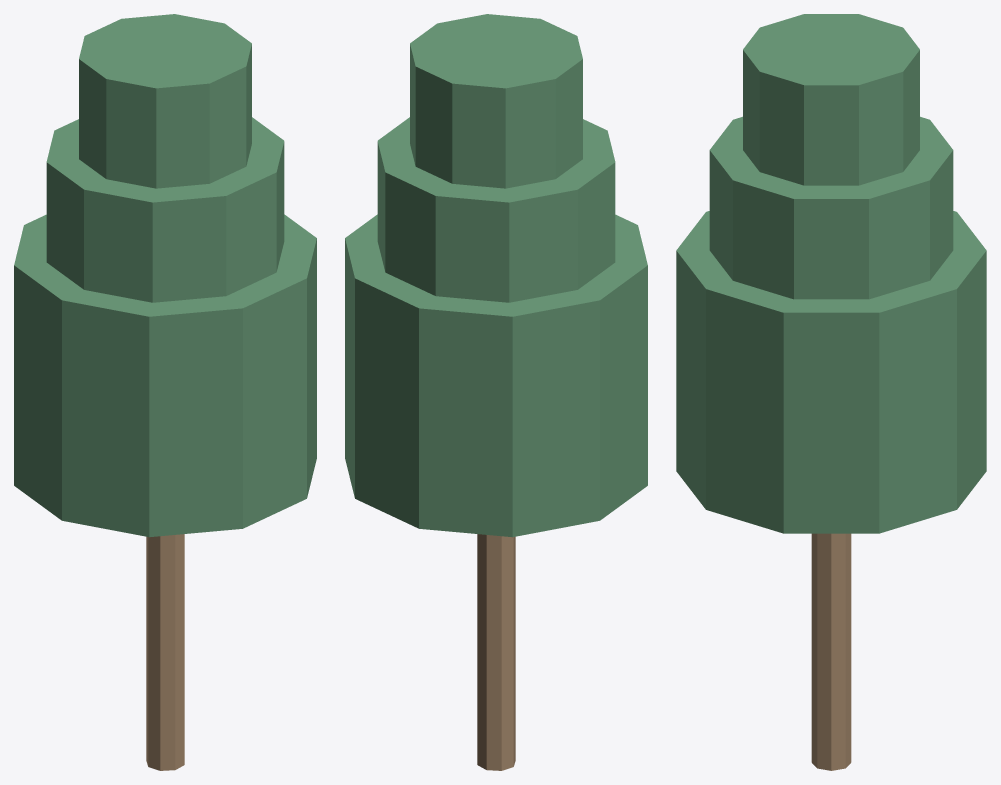
The model's file is coastal_pine.glb.
3 views of the same model, side by side, from view 1: azimuth 30°, elevation 25°; view 2: azimuth 150°, elevation 25°; view 3: azimuth 270°, elevation 25° (orthographic).
Parts seen in each view (by area): view 1: cone0, cone1, cone2, trunk; view 2: cone0, cone1, cone2, trunk; view 3: cone0, cone1, cone2, trunk.
Boxes of the visible parts, left/top/right/bottom form: cone0: left=14, top=214, right=316, bottom=537; cone1: left=46, top=117, right=284, bottom=302; cone2: left=79, top=14, right=251, bottom=188; trunk: left=146, top=534, right=184, bottom=770; cone0: left=345, top=214, right=647, bottom=537; cone1: left=377, top=117, right=615, bottom=302; cone2: left=410, top=14, right=582, bottom=188; trunk: left=477, top=534, right=515, bottom=770; cone0: left=676, top=211, right=986, bottom=533; cone1: left=709, top=116, right=953, bottom=299; cone2: left=743, top=14, right=919, bottom=185; trunk: left=811, top=533, right=851, bottom=770.
Size of the model in its own units: 2.66 by 7.1 by 2.8.
